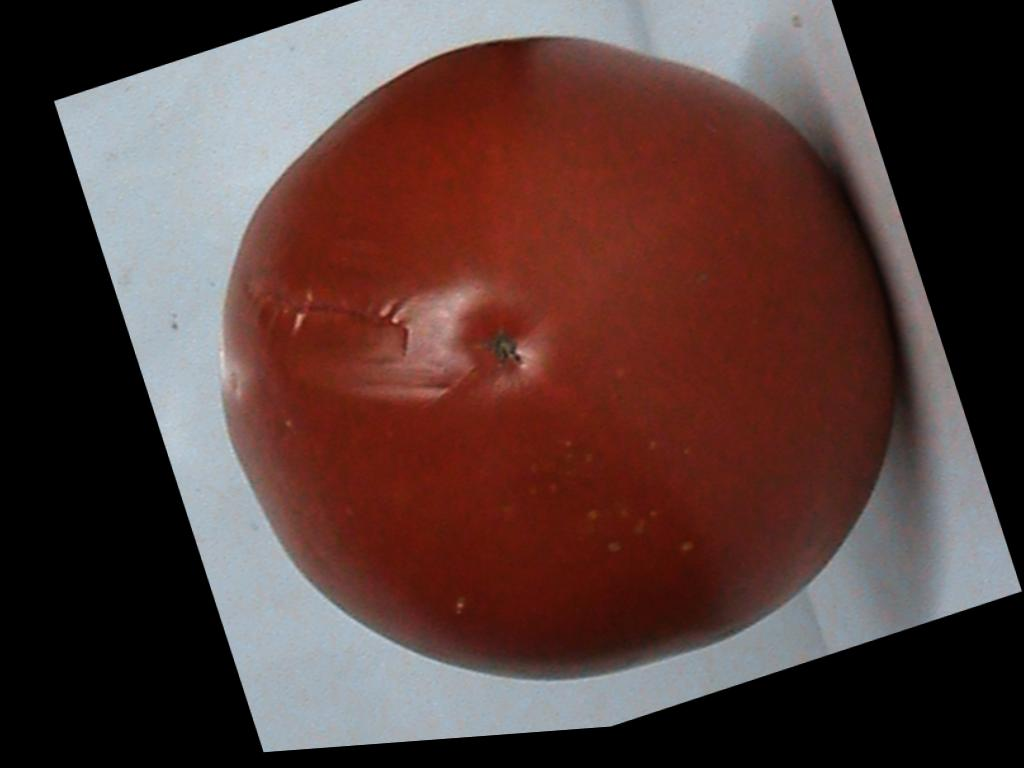surface_damage: (240, 283, 407, 352)
tomato: (224, 38, 894, 677)
